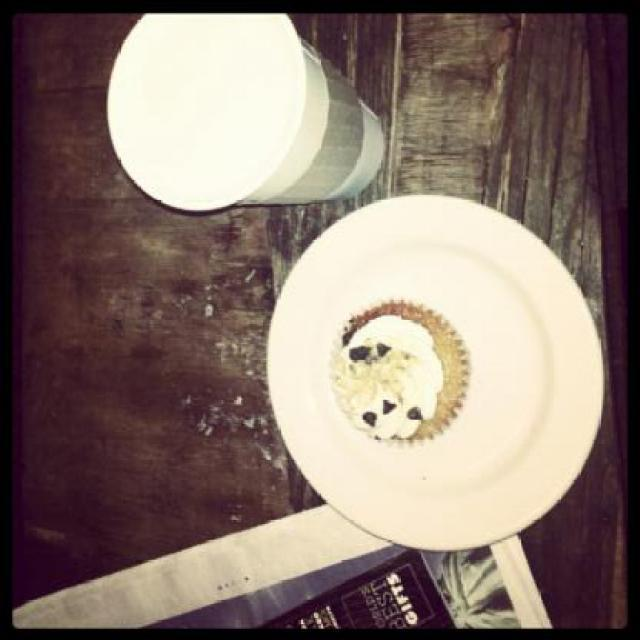Muffin: (329, 298, 473, 431)
